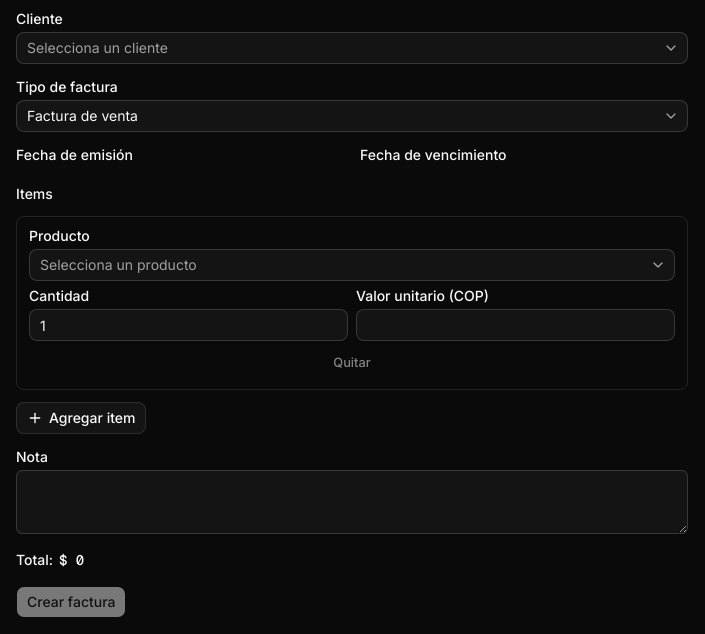
Test: InvoiceFormContent › Selector de producto (línea de factura) › lists every active product (labeled 'Name · stock N') plus a trailing 'Otro…' option
The width and height of the screenshot is (705, 634).
Click the dropdown labelled "Selecciona un producto ▼" at (118, 264), box [29,249,675,281]
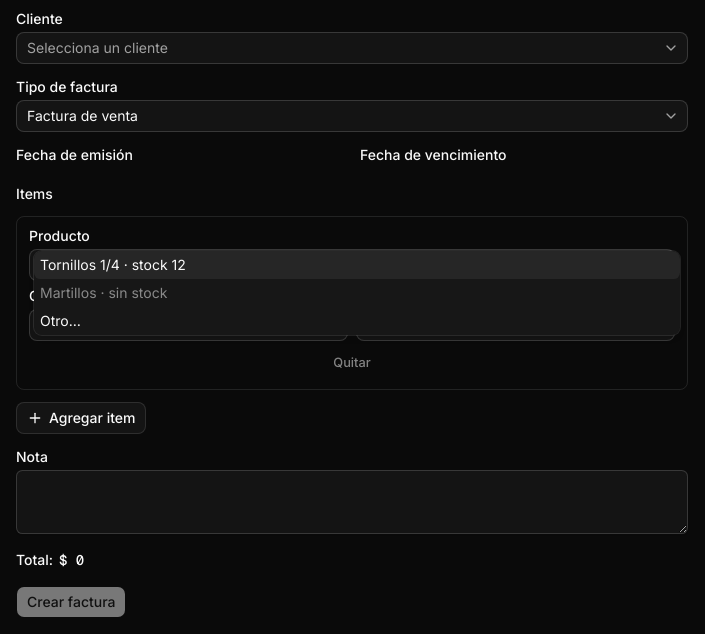
Now the option "Otro…" is shown, box [40,312,81,329]
